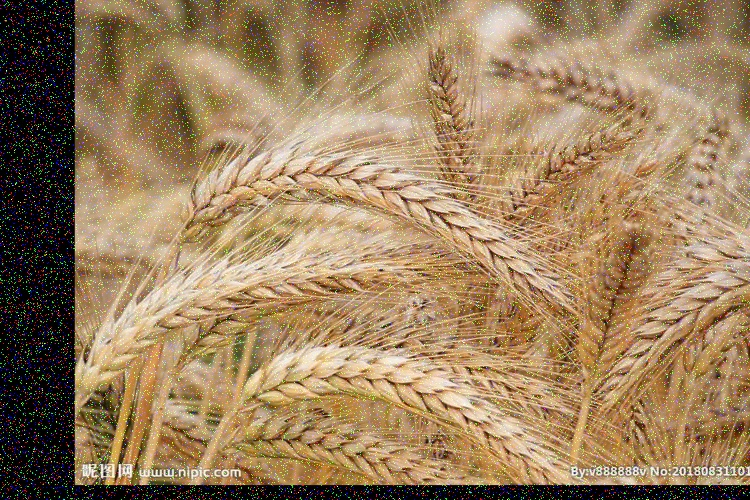wheat: (83, 239, 449, 387), (169, 155, 561, 293), (231, 345, 555, 479)
